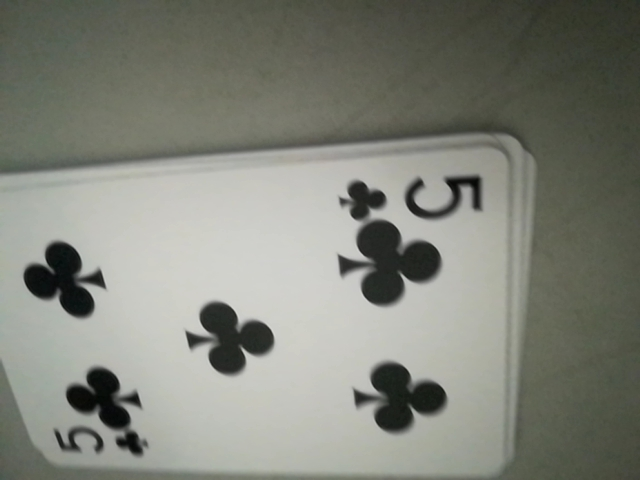mh 5: (337, 165, 486, 223), (47, 422, 148, 463)
